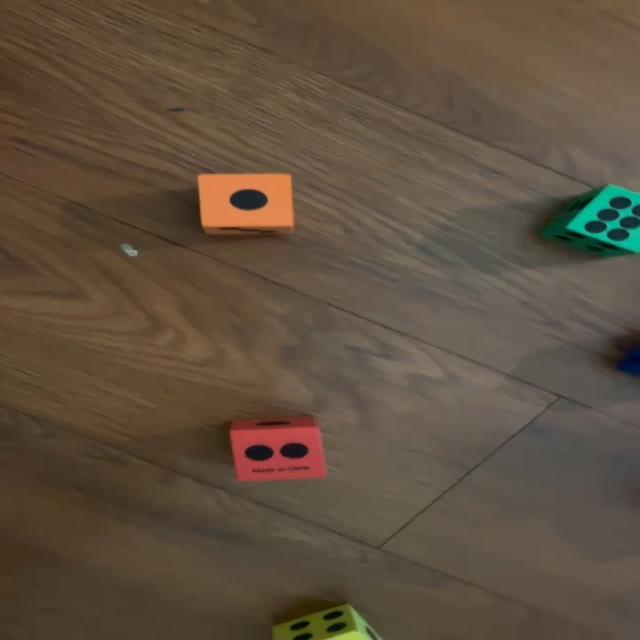blue_block: (620, 352, 640, 377)
red_block: (226, 415, 326, 482)
